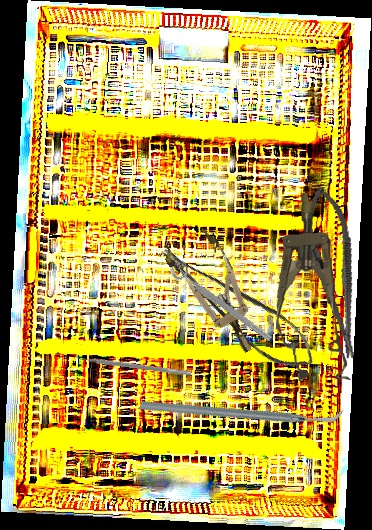Chopper: (137, 323, 345, 496)
Fixation Ring: (167, 257, 279, 345)
Micro Scissor: (156, 221, 325, 388)
Needle Holder: (297, 183, 372, 363)
Spatula Surgical: (73, 351, 193, 377)
Speculum: (159, 222, 272, 365), (269, 191, 351, 384)
